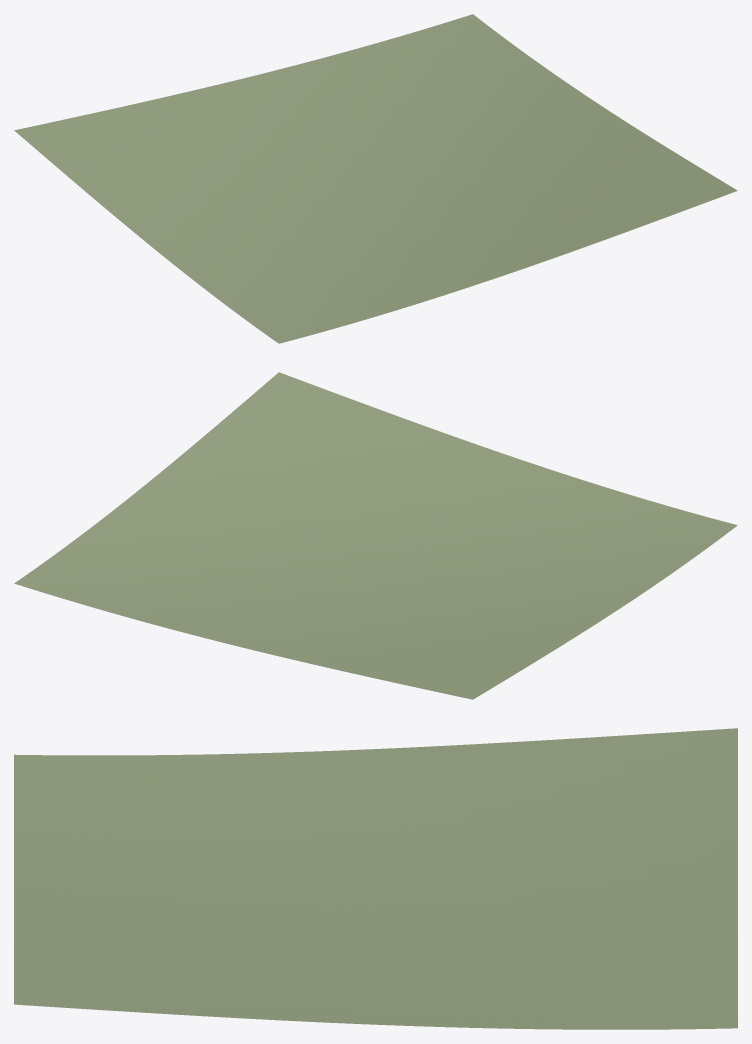
Rendered from alpine-10-15.glb.
The picture shows the model from 3 angles, top to bottom: view 1: azimuth 30°, elevation 25°; view 2: azimuth 150°, elevation 25°; view 3: azimuth 270°, elevation 25°; orthographic projection. The views are drawn at different scales.
Parts seen in each view (by area): view 1: alpine-10-15; view 2: alpine-10-15; view 3: alpine-10-15.
Part boxes in pixels (<box>): alpine-10-15: <box>14,14,737,343</box>; alpine-10-15: <box>14,372,737,699</box>; alpine-10-15: <box>14,728,737,1029</box>.
Size of the model in its own units: 256 by 22.17 by 256.
